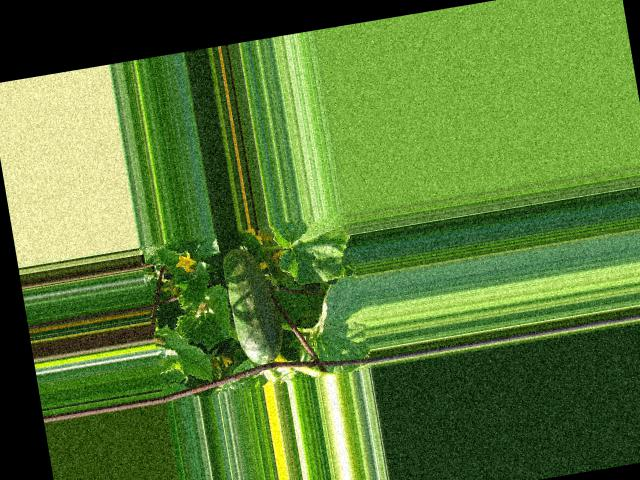cucumber: (220, 242, 289, 367)
